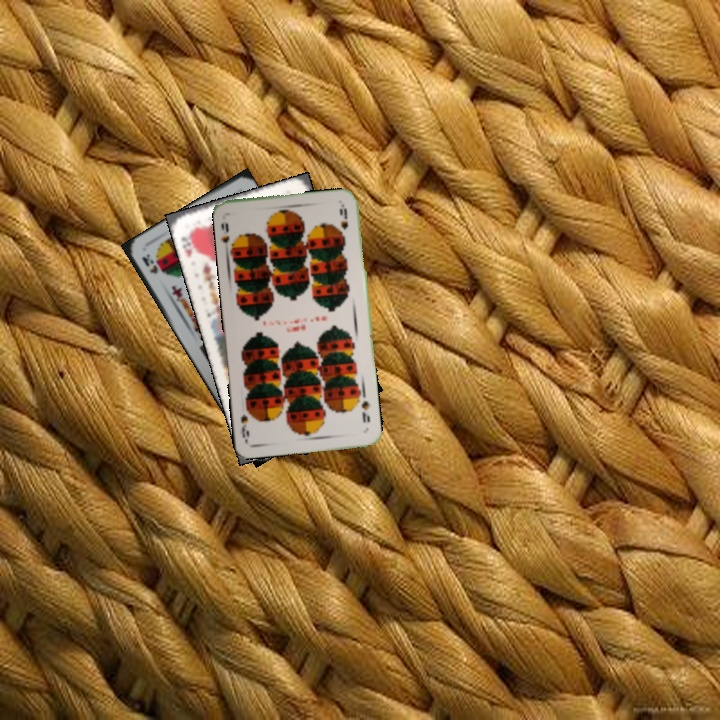HK: (176, 226, 195, 259)
S9: (217, 219, 239, 254), (357, 397, 373, 425)
SK: (138, 250, 160, 277)
